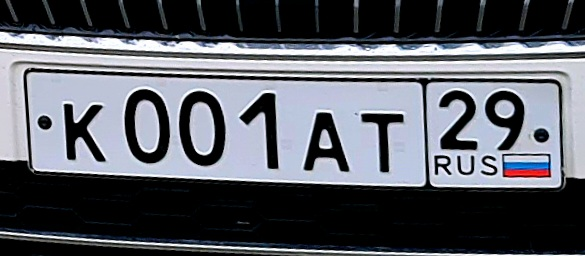number_plate: (39, 76, 556, 175)
